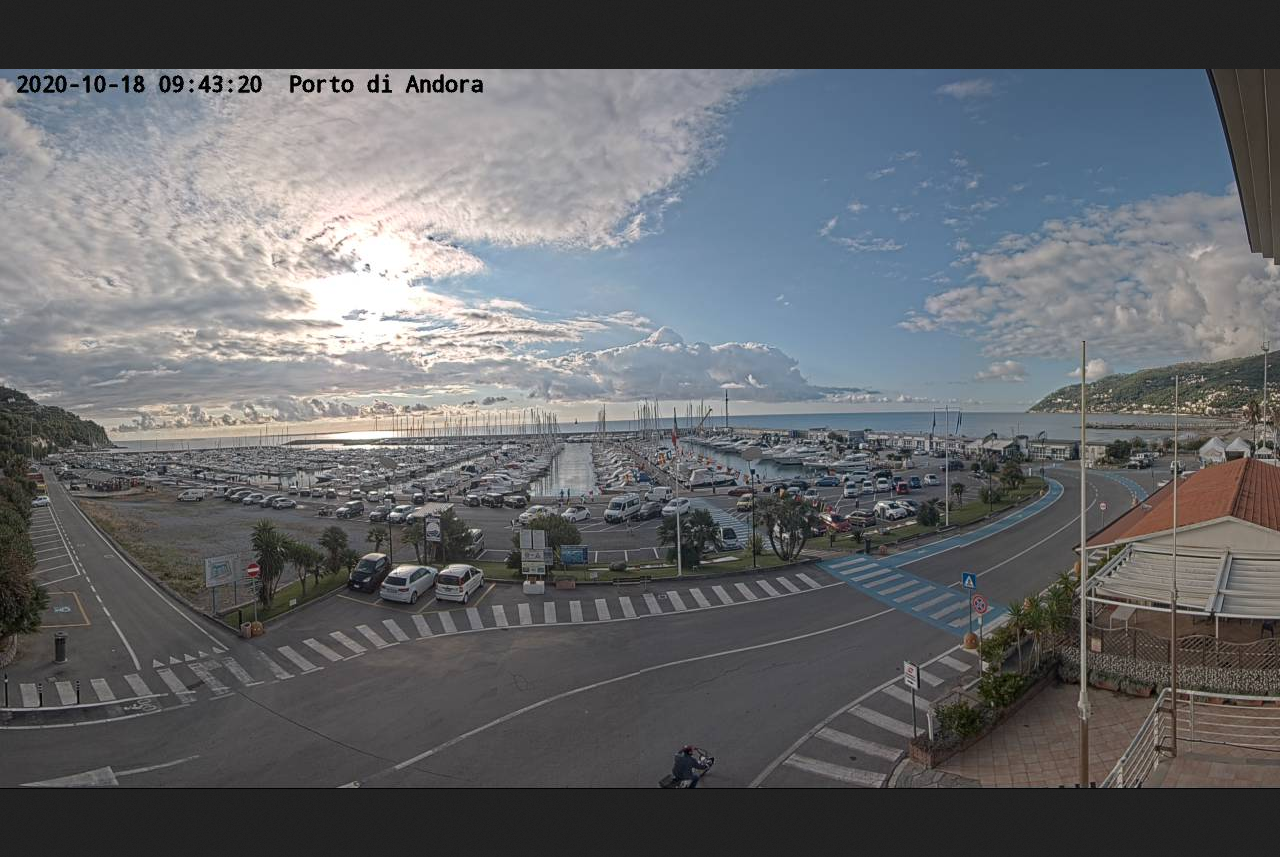no: (671, 411, 680, 450), (953, 409, 966, 434), (931, 409, 938, 437)
